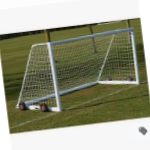goals: (15, 25, 141, 114)
